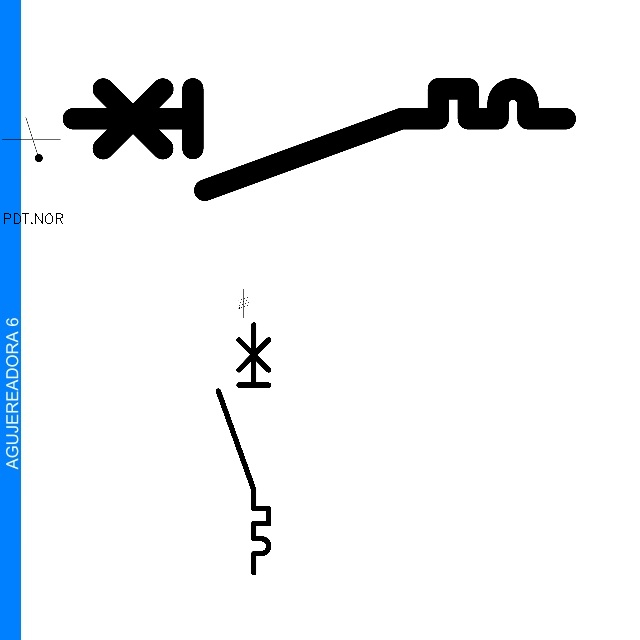interruptor_termomagnetico: (60, 76, 577, 202), (212, 318, 275, 578)
